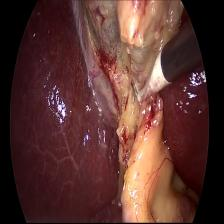Hook: (129, 46, 173, 116)
